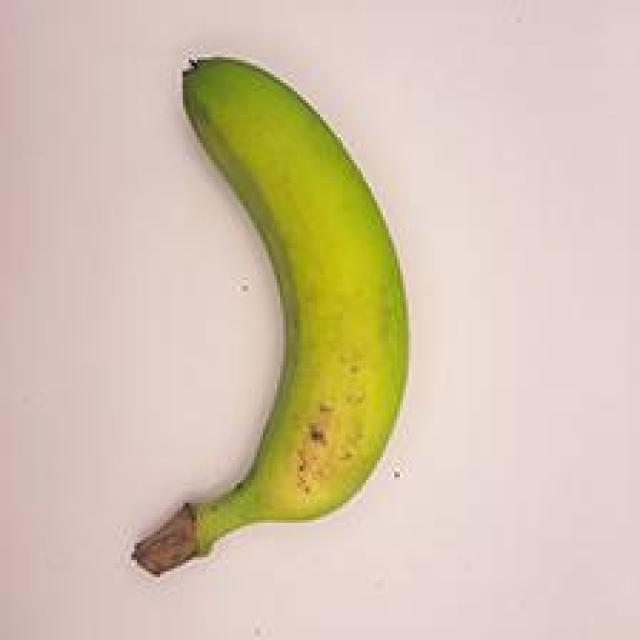Unripe: (119, 13, 439, 589)
